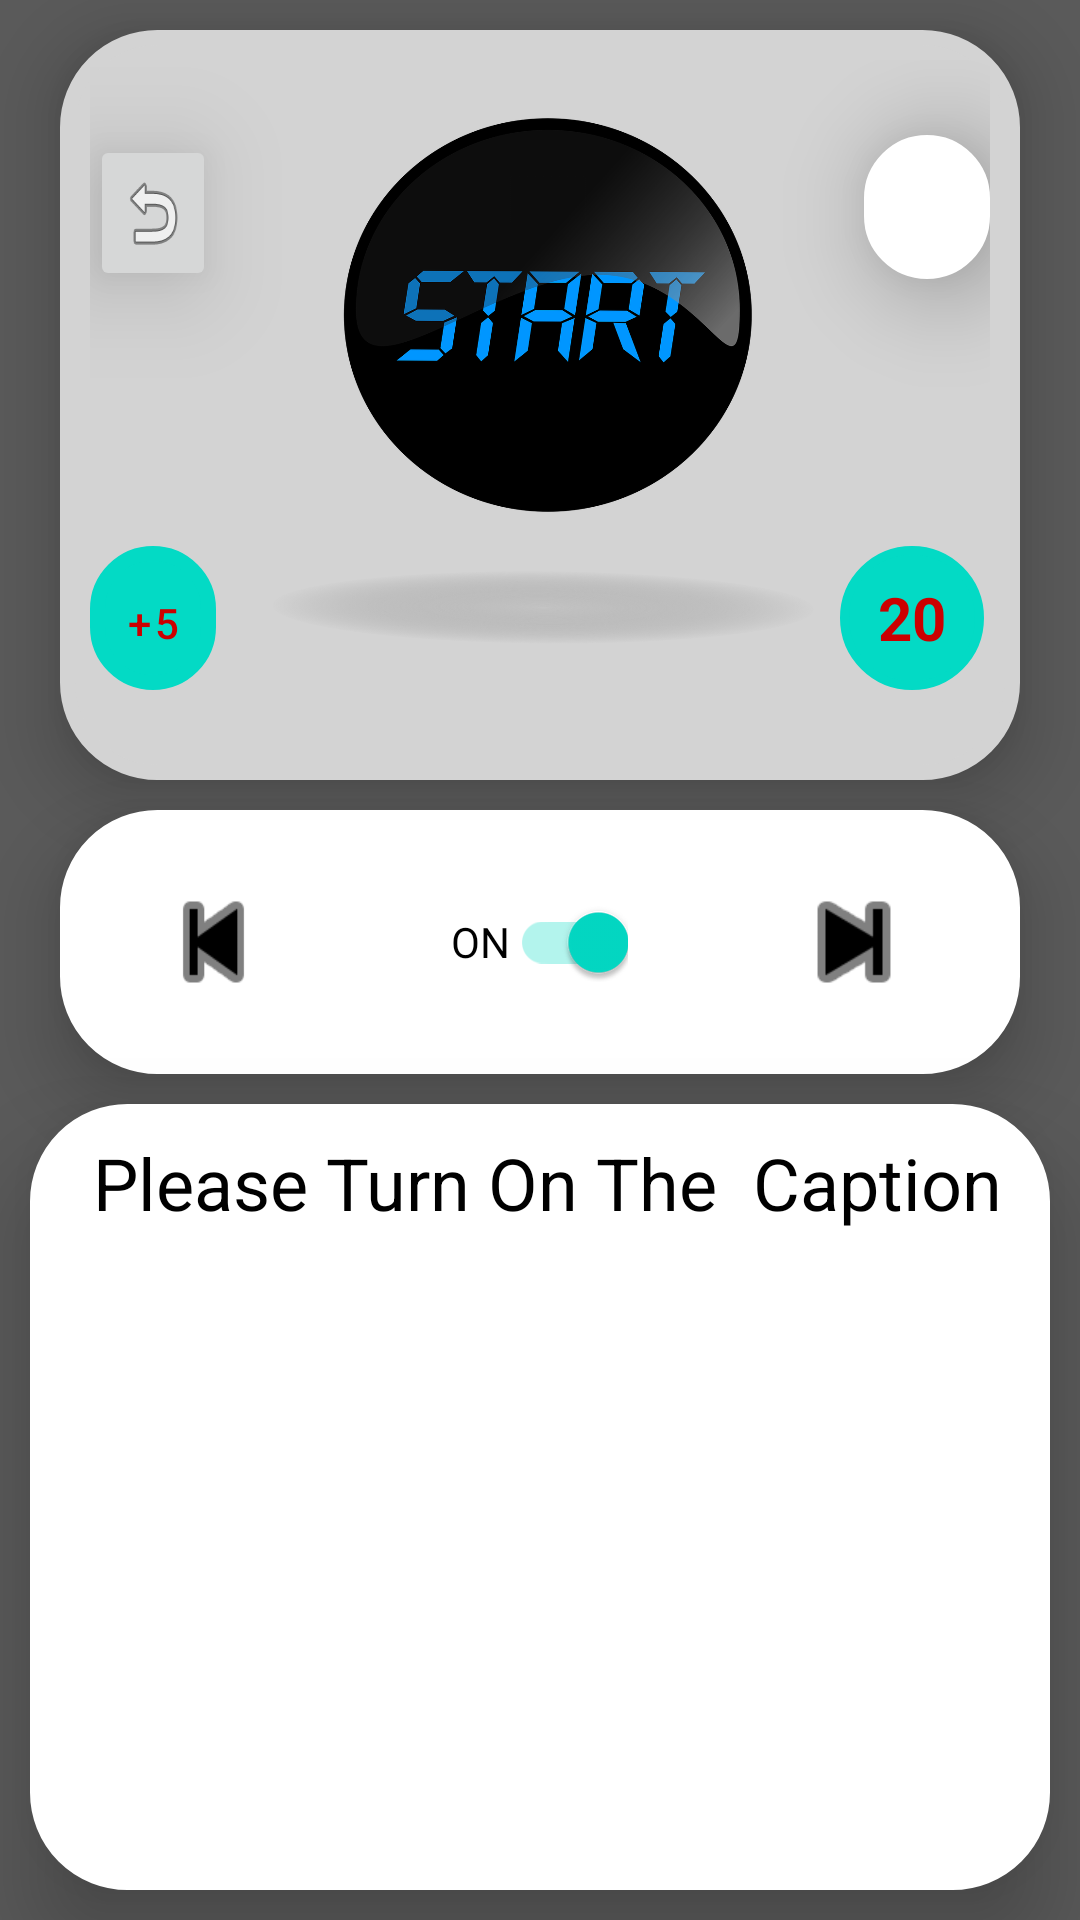

Icons on this 1080px×1920px Android screen, each with its box as (x1, y1, x2, y2):
next: (817, 901, 891, 983)
previous: (183, 901, 244, 983)
revert: (130, 183, 178, 245)
